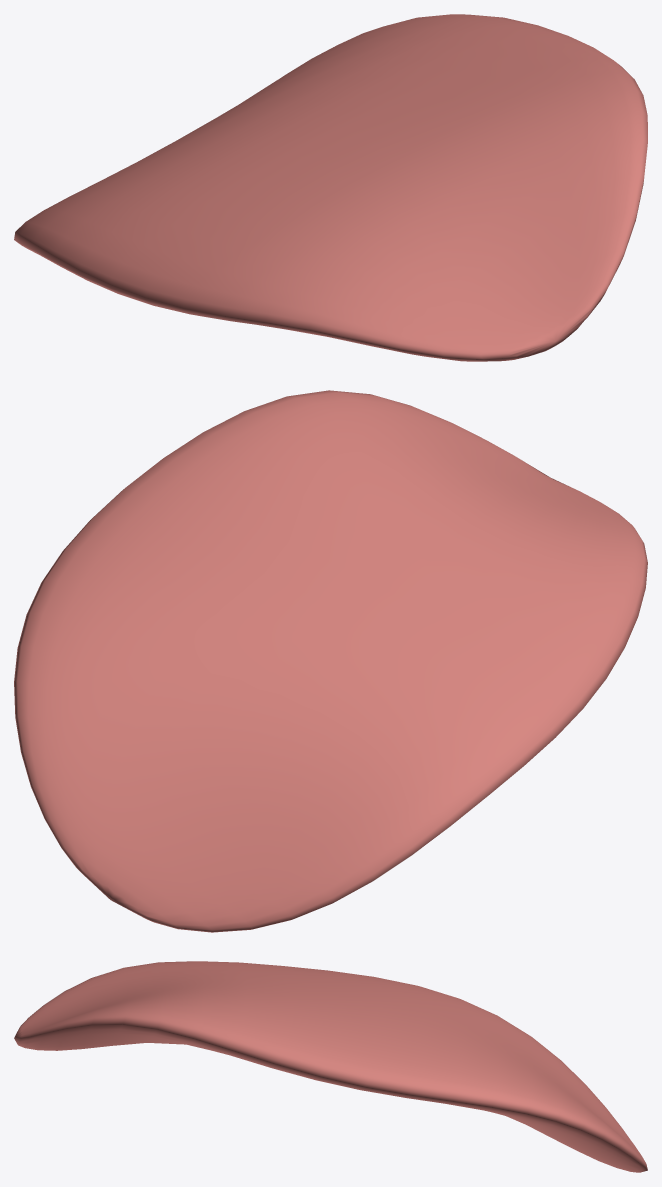
3 renders of one model, top to bottom at view 1: azimuth 30°, elevation 25°; view 2: azimuth 150°, elevation 25°; view 3: azimuth 270°, elevation 25°, orthographic. The views are drawn at different scales.
Parts seen in each view (by area): view 1: ZA_e09b7cf56931833b; view 2: ZA_e09b7cf56931833b; view 3: ZA_e09b7cf56931833b.
Boxes of the visible parts, box(x1,y1,x2,y2) form: ZA_e09b7cf56931833b: box(14, 14, 647, 361); ZA_e09b7cf56931833b: box(14, 390, 647, 932); ZA_e09b7cf56931833b: box(14, 961, 647, 1172).
Bounding box in the file's own units: 0.0302 × 0.0168 × 0.0444.
